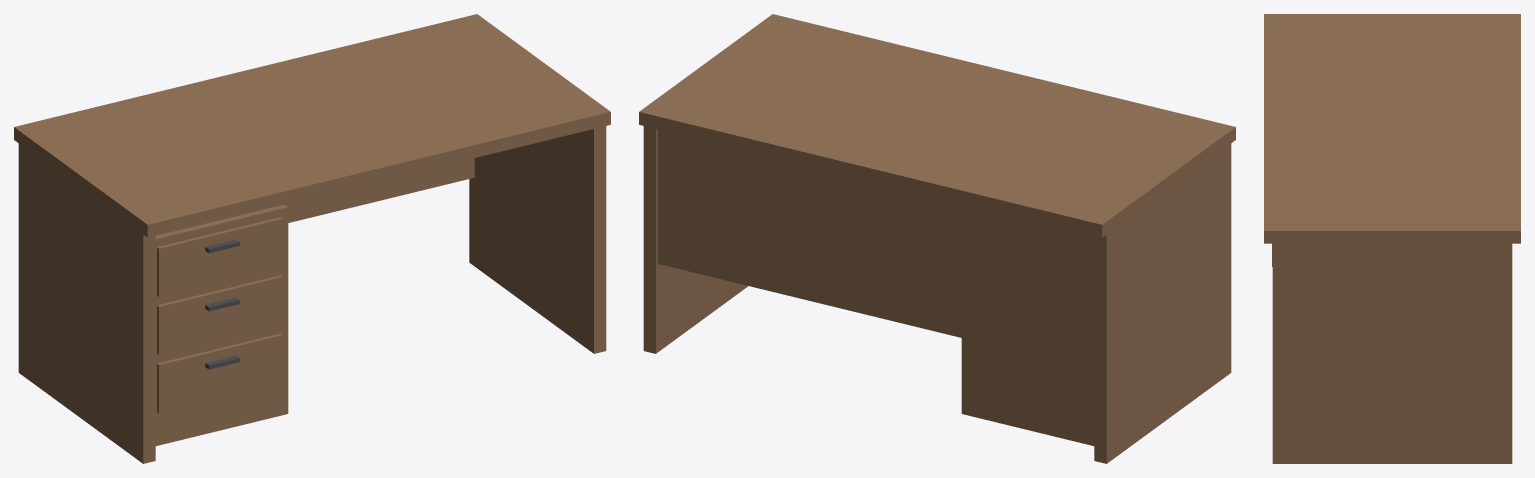
File: SM_Desk.fbx
3 views of the same model, side by side, from view 1: azimuth 30°, elevation 25°; view 2: azimuth 150°, elevation 25°; view 3: azimuth 270°, elevation 25° (orthographic). The views are drawn at different scales.
Parts seen in each view (by area): view 1: SM_Desk; view 2: SM_Desk; view 3: SM_Desk.
Boxes of the visible parts, x1,y1,x2,y2 form: SM_Desk: [14, 14, 610, 463]; SM_Desk: [639, 14, 1235, 463]; SM_Desk: [1264, 14, 1520, 463].
Bounding box in the file's own units: 150 × 75 × 75.
